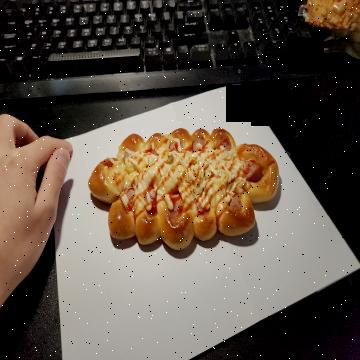pizza_bread: (87, 130, 279, 252)
